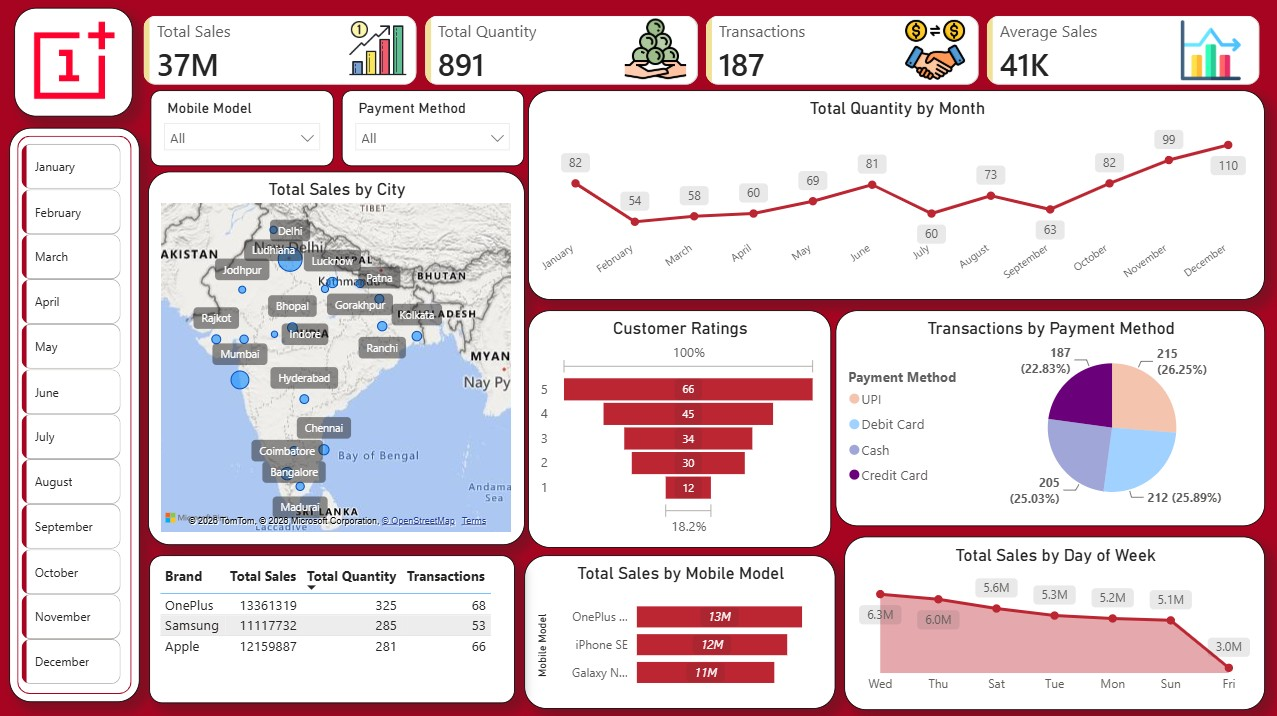

The page's visual inventory and layout, read from the dashboard file:
{"tool":"powerbi","page":{"name":"PROJECT 1","canvas":[1280,720],"ordinal":0},"visuals":[{"type":"shape","box":[15.7,8.4,118.2,108.6],"z":0},{"type":"shape","box":[10.9,129.1,130.3,574.3],"z":1000},{"type":"image","box":[30.2,8.4,91.7,109.8],"z":2000},{"type":"advancedSlicerVisual","fields":{"Values":["Sales_Data.Date.Variation.Date Hierarchy.Month"]},"box":[19.3,139.9,109.8,555],"z":3000},{"type":"cardVisual","fields":{"Data":["Sales_Data.Total Sales","Sales_Data.Total Quantity","Sales_Data.Transactions","Sales_Data.Average"]},"box":[129.1,0,1150.9,103.8],"z":4000},{"type":"image","box":[306.4,13.3,147.2,74.8],"z":5000},{"type":"image","box":[606.8,18.1,102.5,65.1],"z":6000},{"type":"image","box":[898.8,19.3,77.2,63.9],"z":7000},{"type":"image","box":[1170.2,21.7,85.7,60.3],"z":8000},{"type":"map","fields":{"Category":["Sales_Data.City"],"Size":["Sales_Data.Total Sales"]},"box":[149.6,172.5,376.4,374],"z":9000},{"type":"lineChart","fields":{"Y":["Sales_Data.Total Quantity"],"Category":["Sales_Data.Date.Variation.Date Hierarchy.Month","Sales_Data.Date.Variation.Date Hierarchy.Day"]},"box":[529.6,91.7,737.1,209.9],"z":10000},{"type":"clusteredBarChart","fields":{"Category":["Sales_Data.Mobile Model"],"Y":["Sales_Data.Total Sales"]},"box":[526,556.2,311.3,153.2],"z":11000},{"type":"pieChart","fields":{"Category":["Sales_Data.Payment Method"],"Y":["Sales_Data.Transactions"]},"box":[837.3,311.3,429.5,216],"z":12000},{"type":"funnel","title":" Customer Ratings ","fields":{"Category":["Sales_Data.Customer Ratings"],"Y":["CountNonNull(Sales_Data.Customer Ratings)"]},"box":[529.6,311.3,302.8,237.7],"z":13000},{"type":"areaChart","fields":{"Y":["Sales_Data.Total Sales"],"Category":["Sales_Data.Day Short"]},"box":[845.7,538.1,421,173.7],"z":14000},{"type":"tableEx","fields":{"Values":["Sales_Data.Brand","Sales_Data.Total Sales","Sales_Data.Total Quantity","Sales_Data.Transactions"]},"box":[151.8,556.7,365.9,147.9],"z":15000},{"type":"slicer","fields":{"Values":["Sales_Data.Mobile Model"]},"box":[152,91.7,183.4,76],"z":16000},{"type":"slicer","fields":{"Values":["Sales_Data.Payment Method"]},"box":[343.8,91.7,182.2,76],"z":17000}]}

Visuals, with their boxes in screenshot pixels (x1, y1, x2, y2), scaled from the page's 1280x720 canvas onto the 1277x716 screenshot:
shape: detection(16, 8, 134, 116)
shape: detection(11, 128, 141, 699)
image: detection(30, 8, 122, 118)
advancedSlicerVisual - Sales_Data.Date.Variation.Date Hierarchy.Month: detection(19, 139, 129, 691)
cardVisual - Sales_Data.Total Sales x Sales_Data.Total Quantity: detection(129, 0, 1276, 103)
image: detection(306, 13, 453, 88)
image: detection(605, 18, 708, 83)
image: detection(897, 19, 974, 83)
image: detection(1167, 22, 1253, 82)
map - Sales_Data.City x Sales_Data.Total Sales: detection(149, 172, 525, 543)
lineChart - Sales_Data.Total Quantity x Sales_Data.Date.Variation.Date Hierarchy.Month: detection(528, 91, 1264, 300)
clusteredBarChart - Sales_Data.Mobile Model x Sales_Data.Total Sales: detection(525, 553, 835, 705)
pieChart - Sales_Data.Payment Method x Sales_Data.Transactions: detection(835, 310, 1264, 524)
" Customer Ratings " funnel: detection(528, 310, 830, 546)
areaChart - Sales_Data.Total Sales x Sales_Data.Day Short: detection(844, 535, 1264, 708)
tableEx - Sales_Data.Brand x Sales_Data.Total Sales: detection(151, 554, 516, 701)
slicer - Sales_Data.Mobile Model: detection(152, 91, 335, 167)
slicer - Sales_Data.Payment Method: detection(343, 91, 525, 167)
